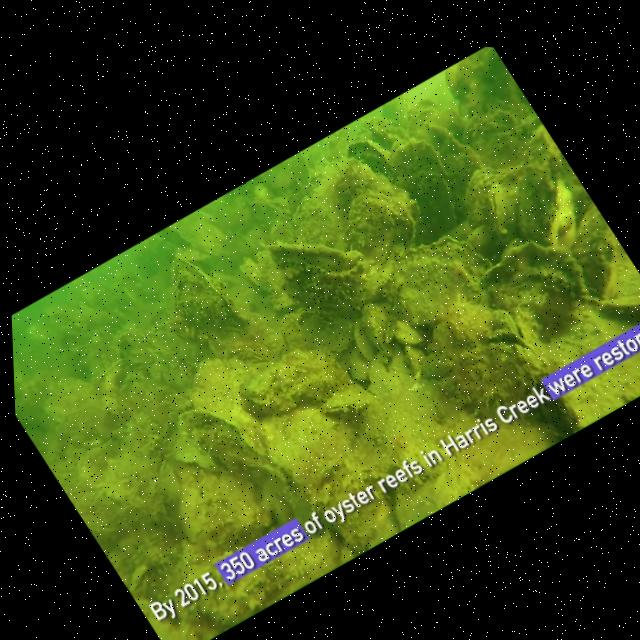Oyster-Closed: (169, 256, 246, 340), (489, 181, 519, 241)
Oyster-Indeterminate: (173, 518, 342, 631), (387, 235, 495, 352), (421, 322, 546, 417), (481, 239, 585, 330), (261, 406, 352, 484), (177, 409, 276, 470), (344, 186, 416, 258), (117, 367, 191, 429), (189, 356, 249, 425), (404, 168, 456, 236), (239, 361, 300, 417), (44, 376, 103, 433), (332, 157, 390, 213), (522, 122, 575, 181), (177, 481, 220, 540), (391, 136, 446, 180), (464, 165, 501, 227), (148, 343, 194, 386), (347, 138, 392, 176), (550, 178, 575, 246), (361, 302, 392, 355), (466, 223, 503, 262), (117, 329, 157, 364), (96, 357, 131, 395), (596, 291, 640, 321), (536, 402, 575, 434), (353, 317, 381, 360), (139, 482, 167, 520), (158, 460, 180, 504), (393, 319, 424, 344), (349, 346, 370, 380)
Oyster-Open: (268, 242, 385, 316), (445, 46, 531, 116), (320, 381, 371, 411), (223, 346, 268, 364), (377, 468, 407, 492), (128, 562, 148, 596)
